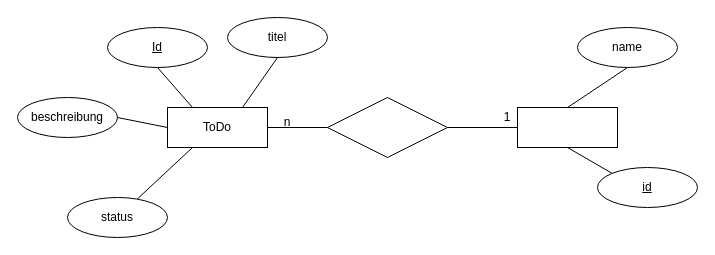
The diagram is 715 pixels wide and 255 high, and some of its shapes have lost their labels. Here are the shapes that lost their labels. From the top down, the centre of each, then its label:
At pixel 387 127: "hat".
At pixel 567 127: "Category".
